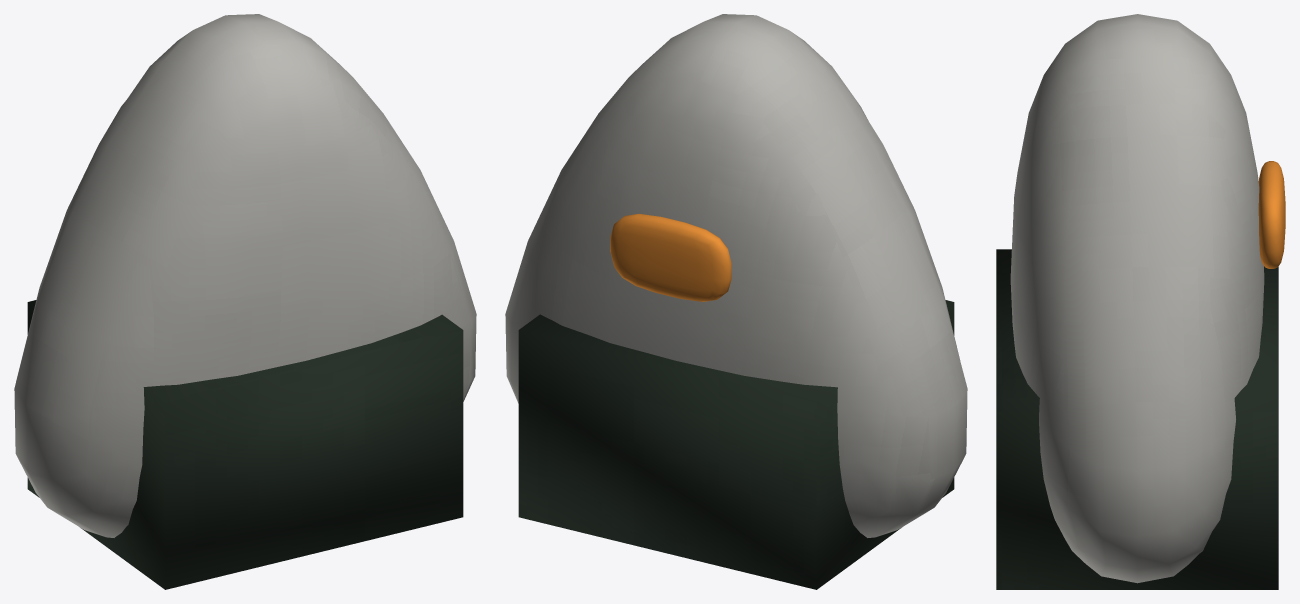
File: onigiri_salmon.glb
3 renders of one model, left to right at view 1: azimuth 30°, elevation 25°; view 2: azimuth 150°, elevation 25°; view 3: azimuth 270°, elevation 25°, orthographic. The views are drawn at different scales.
Parts seen in each view (by area): view 1: onigiri_salmon_felt_rice, onigiri_salmon_felt_nori; view 2: onigiri_salmon_felt_rice, onigiri_salmon_felt_nori, onigiri_salmon_felt_orange; view 3: onigiri_salmon_felt_rice, onigiri_salmon_felt_nori, onigiri_salmon_felt_orange.
Boxes of the visible parts, left/top/right/bottom form: onigiri_salmon_felt_rice: left=14, top=14, right=476, bottom=537; onigiri_salmon_felt_nori: left=27, top=300, right=463, bottom=589; onigiri_salmon_felt_rice: left=505, top=14, right=967, bottom=537; onigiri_salmon_felt_nori: left=518, top=300, right=954, bottom=589; onigiri_salmon_felt_orange: left=610, top=214, right=731, bottom=301; onigiri_salmon_felt_rice: left=1010, top=14, right=1264, bottom=583; onigiri_salmon_felt_nori: left=996, top=249, right=1278, bottom=589; onigiri_salmon_felt_orange: left=1258, top=161, right=1285, bottom=268.
Bounding box in the file's own units: 0.1097 × 0.12 × 0.0615.
3 materials, 2 textured.
